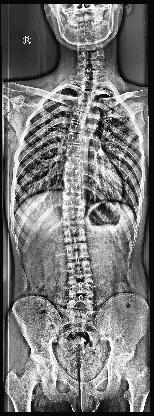Vertebrae: (66, 295, 96, 311), (64, 242, 90, 260), (67, 262, 93, 278), (68, 280, 96, 294), (62, 226, 86, 242), (63, 210, 85, 226), (62, 168, 82, 182), (63, 180, 83, 194), (63, 195, 83, 209), (66, 144, 84, 158), (65, 132, 83, 144), (64, 156, 82, 168), (72, 110, 87, 124), (68, 121, 84, 134), (75, 100, 91, 112), (80, 90, 94, 102)
